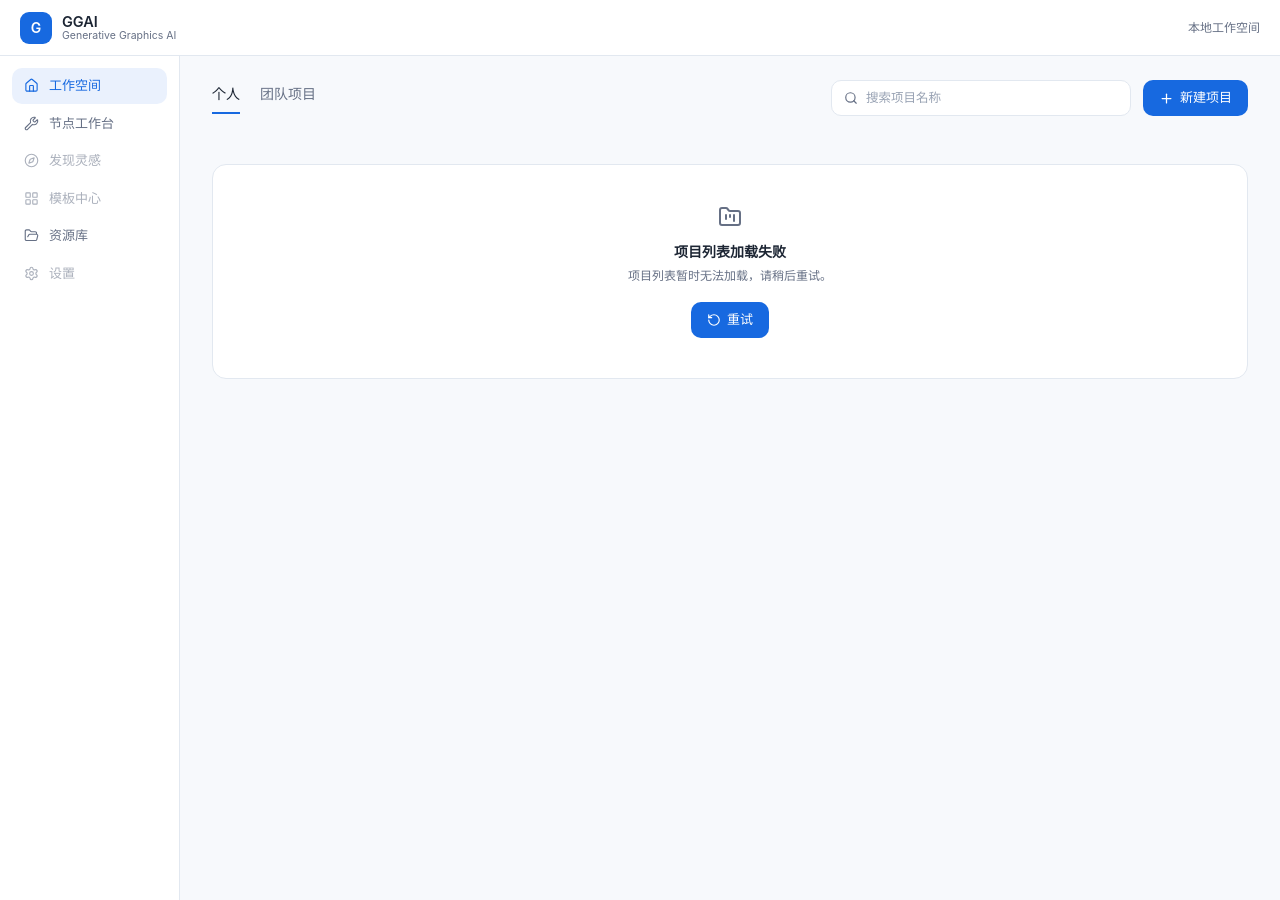
Workspace › shows an actionable load error and a real empty state after retry
This screenshot has width=1280, height=900.
Expected: the message "项目列表加载失败 项目列表暂时无法加载，请稍后重试。 重试" is shown, [212,164,1248,379]
Click the button "重试".
click(730, 320)  # box [691,302,769,338]
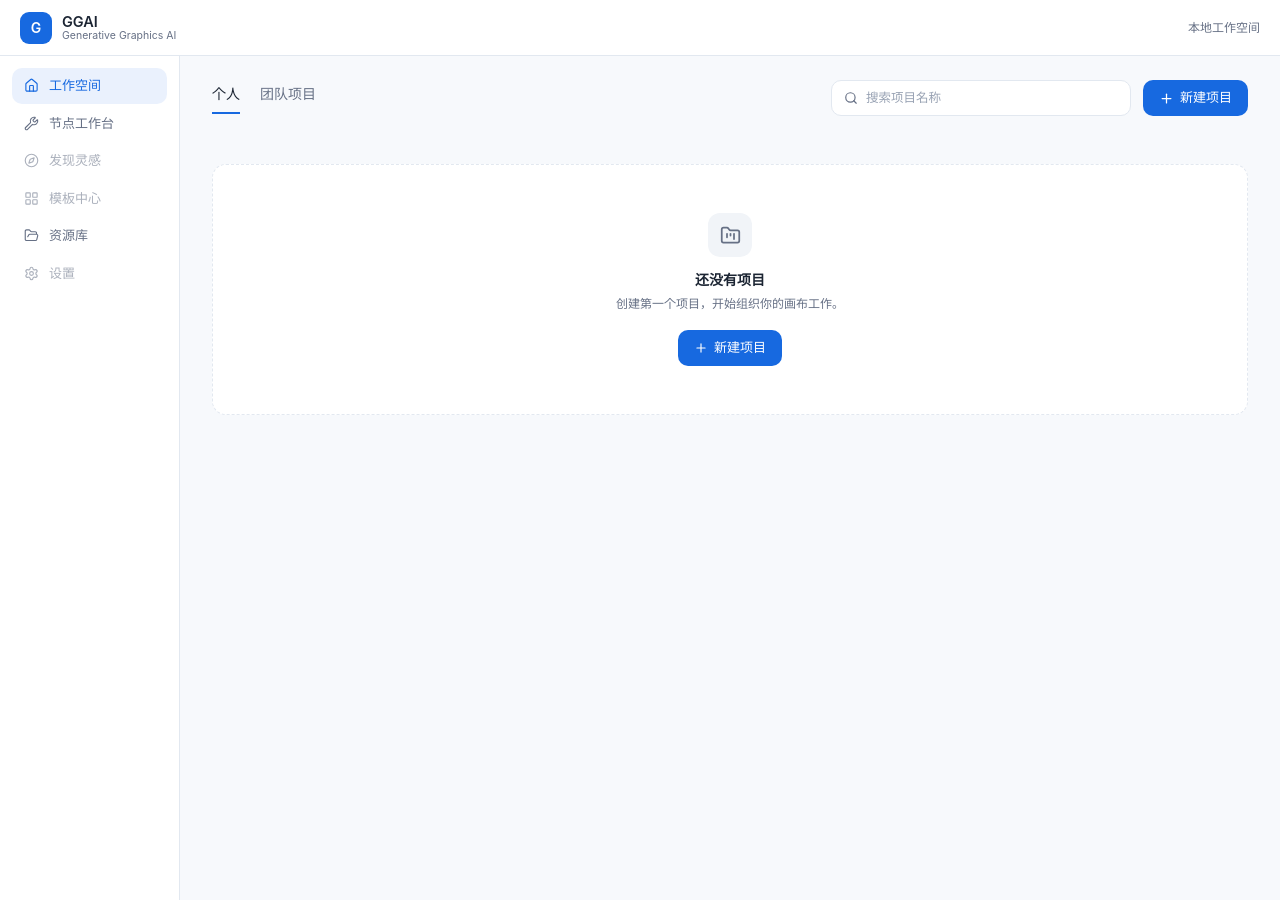
Now the text "还没有项目" is shown, box [695,269,765,290]
Now the text "创建第一个项目" is shown, box [616,296,844,311]
